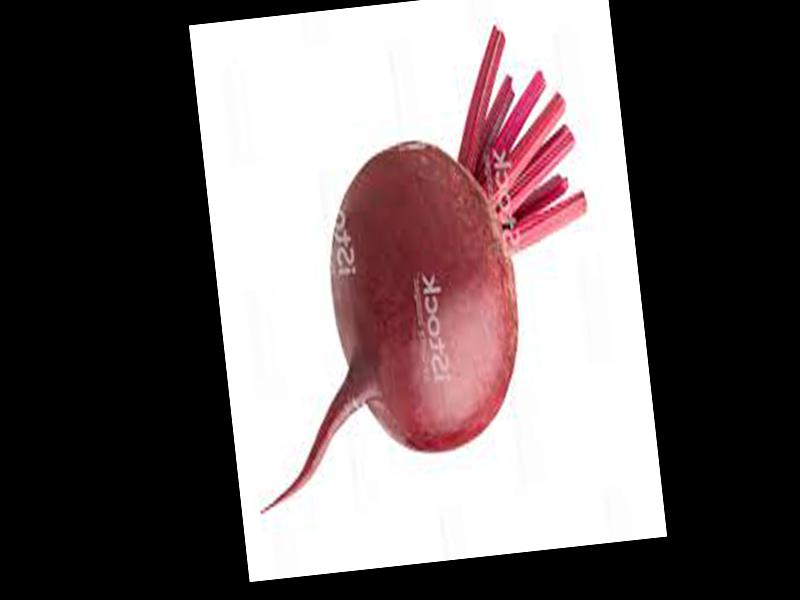Beet: (217, 20, 616, 515)
